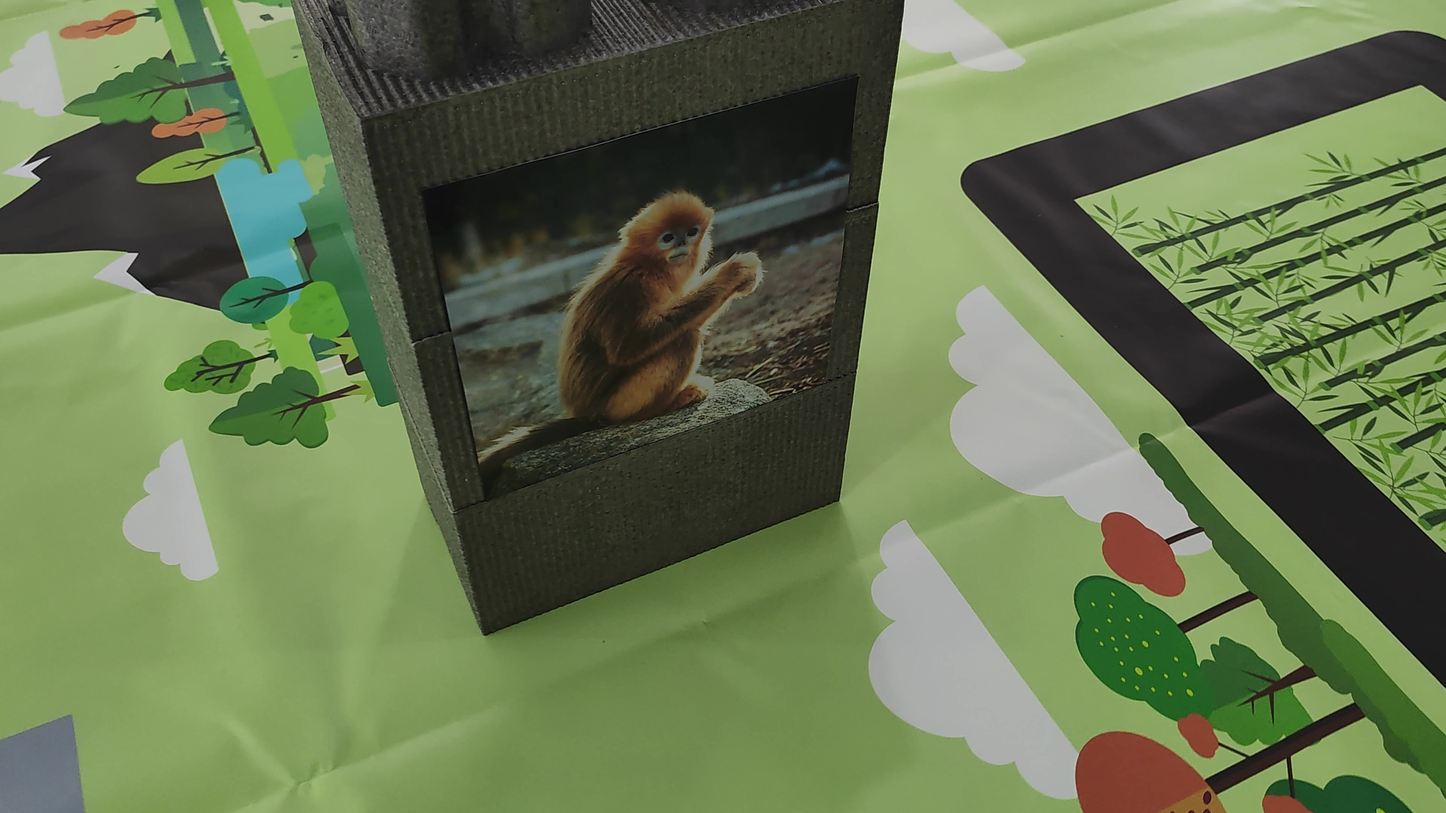monkey: (447, 177, 799, 486)
